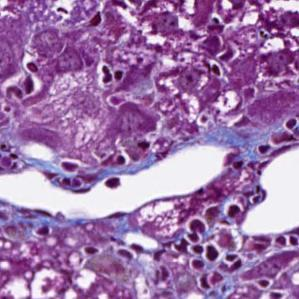inflammation: (185, 13, 241, 78), (93, 49, 131, 95)
